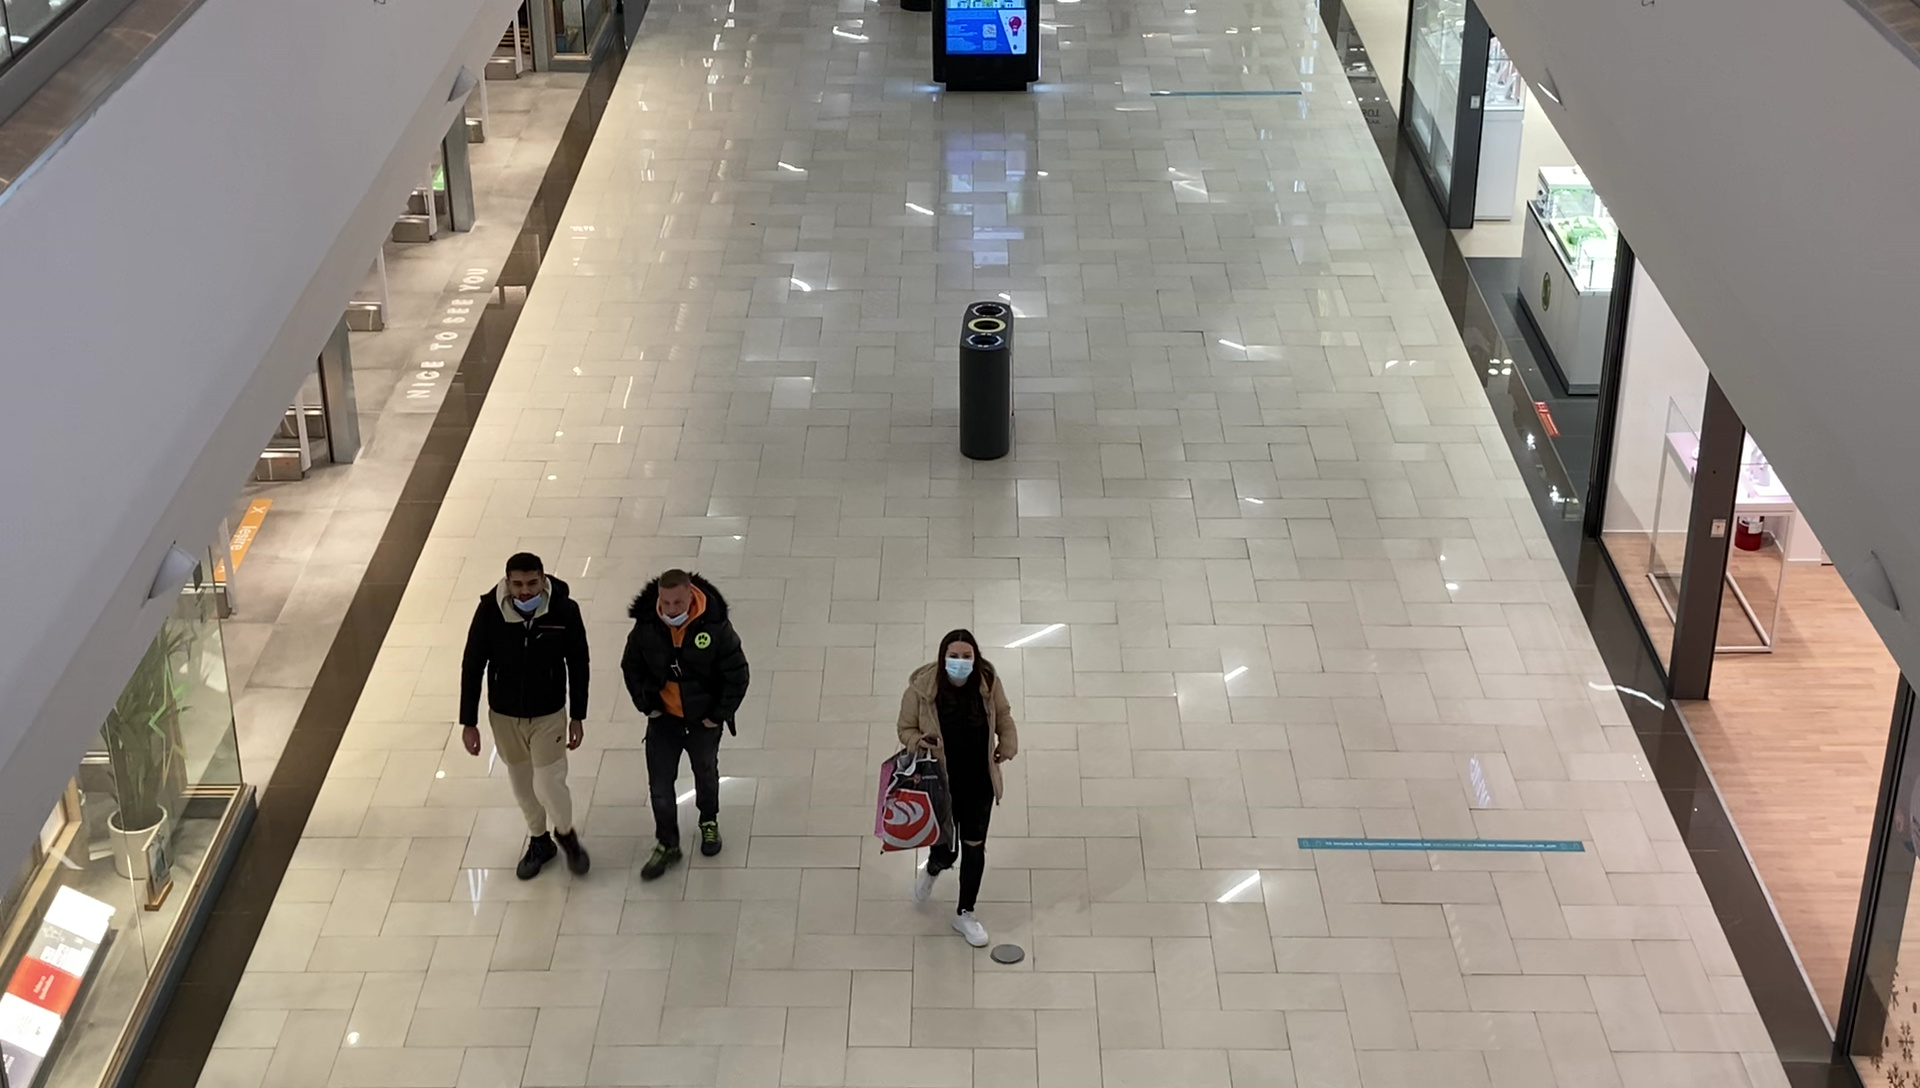person: (460, 552, 596, 878), (619, 571, 752, 880), (895, 629, 1017, 946)
